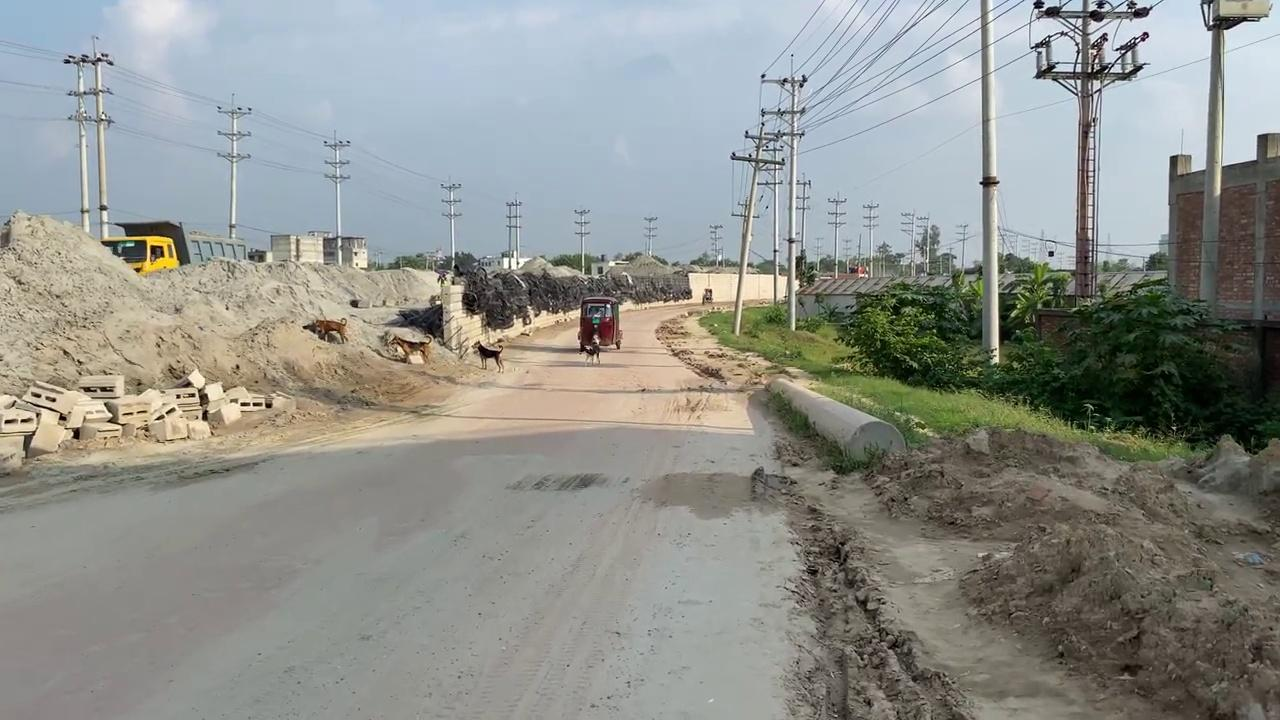Animal: (387, 334, 431, 364), (473, 340, 504, 372), (313, 317, 347, 343)
Curb: (763, 374, 906, 466)
Dog: (579, 340, 600, 365)
Fence: (438, 266, 691, 355)
Garbage-bin: (577, 295, 622, 351)
Muddy road: (2, 296, 1276, 718)
Pole: (978, 0, 1001, 366), (1198, 22, 1225, 316)
Sidewalk: (1, 415, 812, 718)
Tree: (100, 219, 247, 275), (100, 234, 179, 276)
